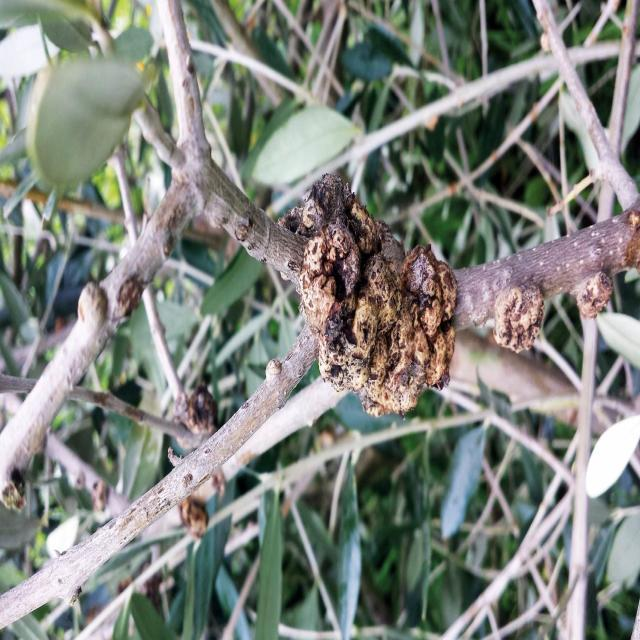Tuberculosis: (280, 174, 457, 416), (494, 286, 544, 348), (174, 382, 218, 436), (570, 271, 612, 319)
